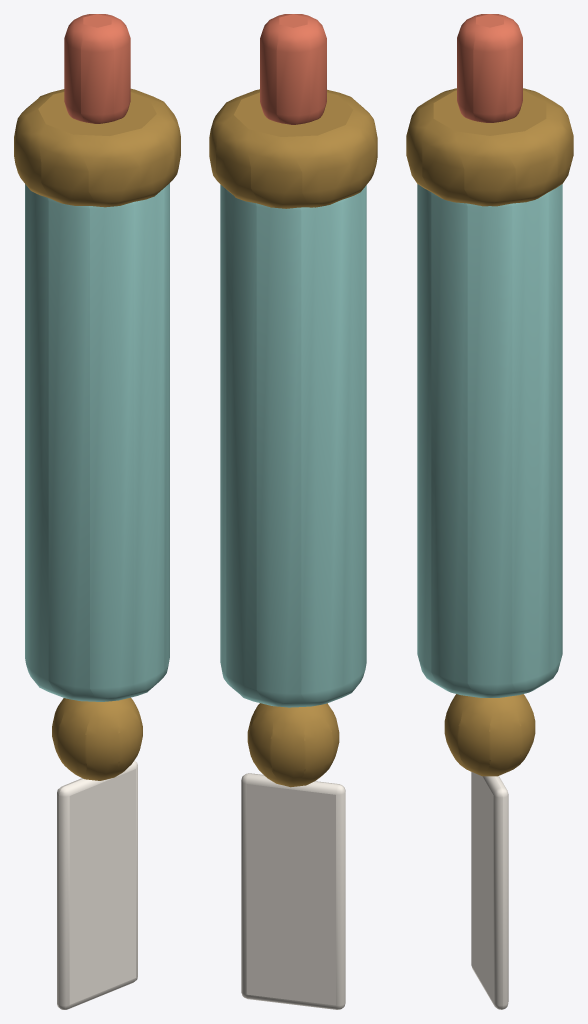
File: chime_tube.glb
The picture shows the model from 3 angles, left to right: view 1: azimuth 30°, elevation 25°; view 2: azimuth 150°, elevation 25°; view 3: azimuth 270°, elevation 25°; orthographic projection.
Parts seen in each view (by area): view 1: cap; view 2: cap; view 3: cap.
Part boxes in pixels (bbox=[...]): cap: bbox=[14, 14, 180, 1009]; cap: bbox=[209, 14, 377, 1009]; cap: bbox=[406, 14, 573, 1009].
Bounding box in the file's own units: 0.1347 × 0.875 × 0.1367.
